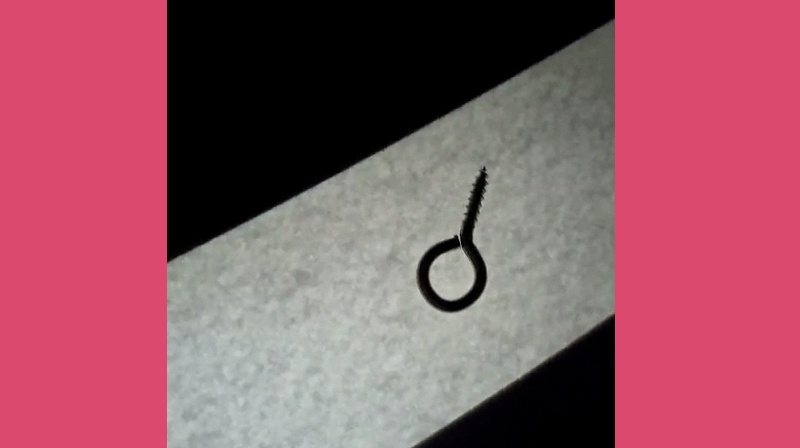O001: (415, 162, 489, 315)
